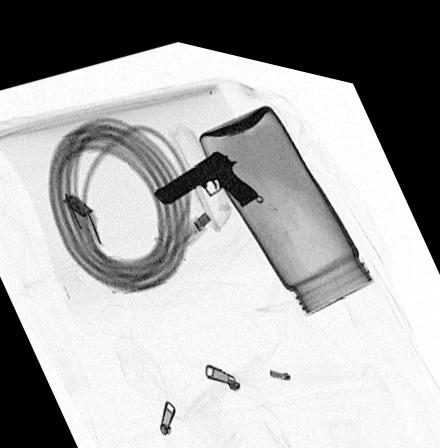Gun: (151, 138, 258, 197)
